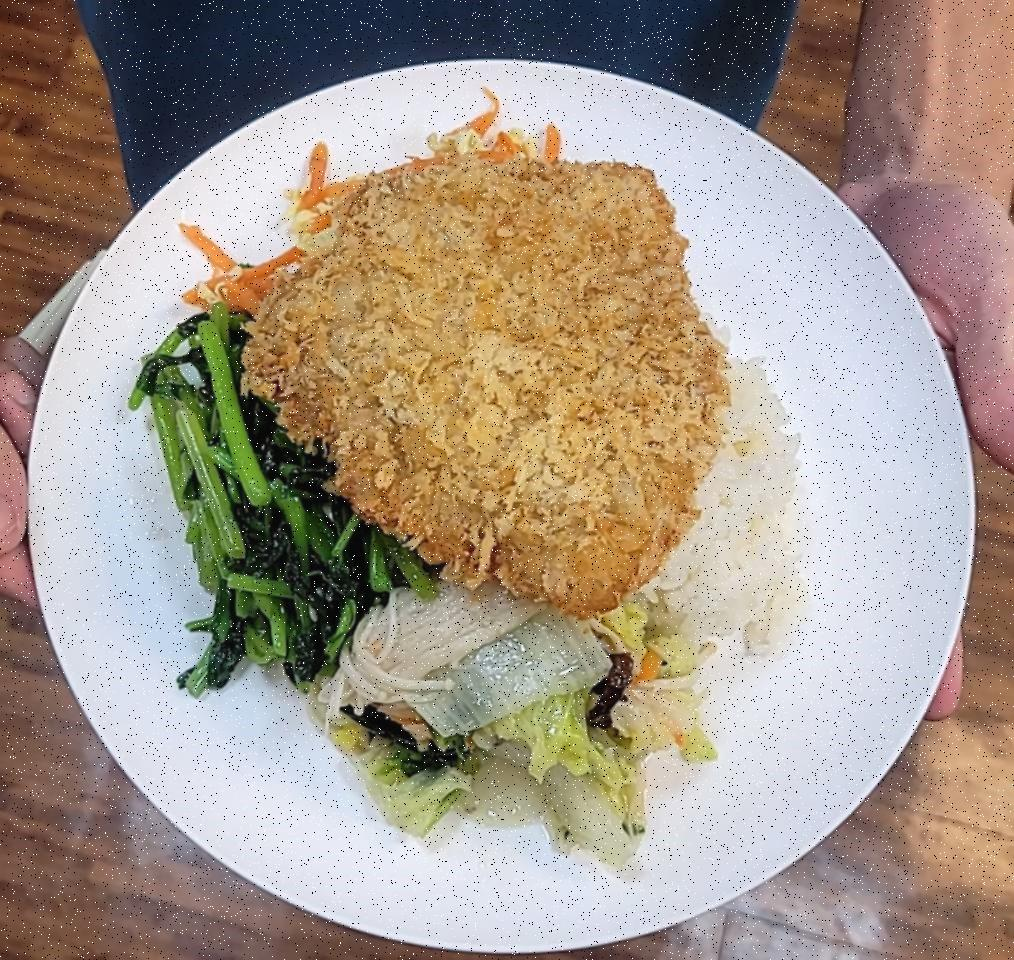big fried chicken leg: (32, 42, 992, 960)
big herbal chicken leg: (572, 328, 810, 642)
braised fish fillet: (325, 558, 713, 840), (142, 322, 413, 665), (182, 99, 560, 318)
braised pork: (242, 132, 726, 614)
